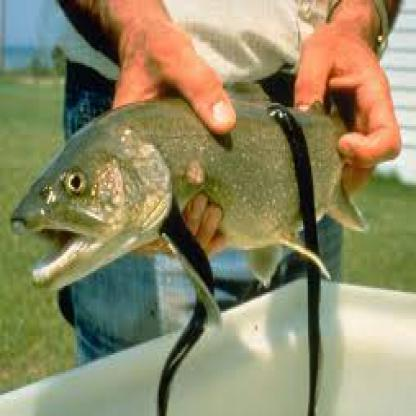fish: (9, 89, 376, 285)
